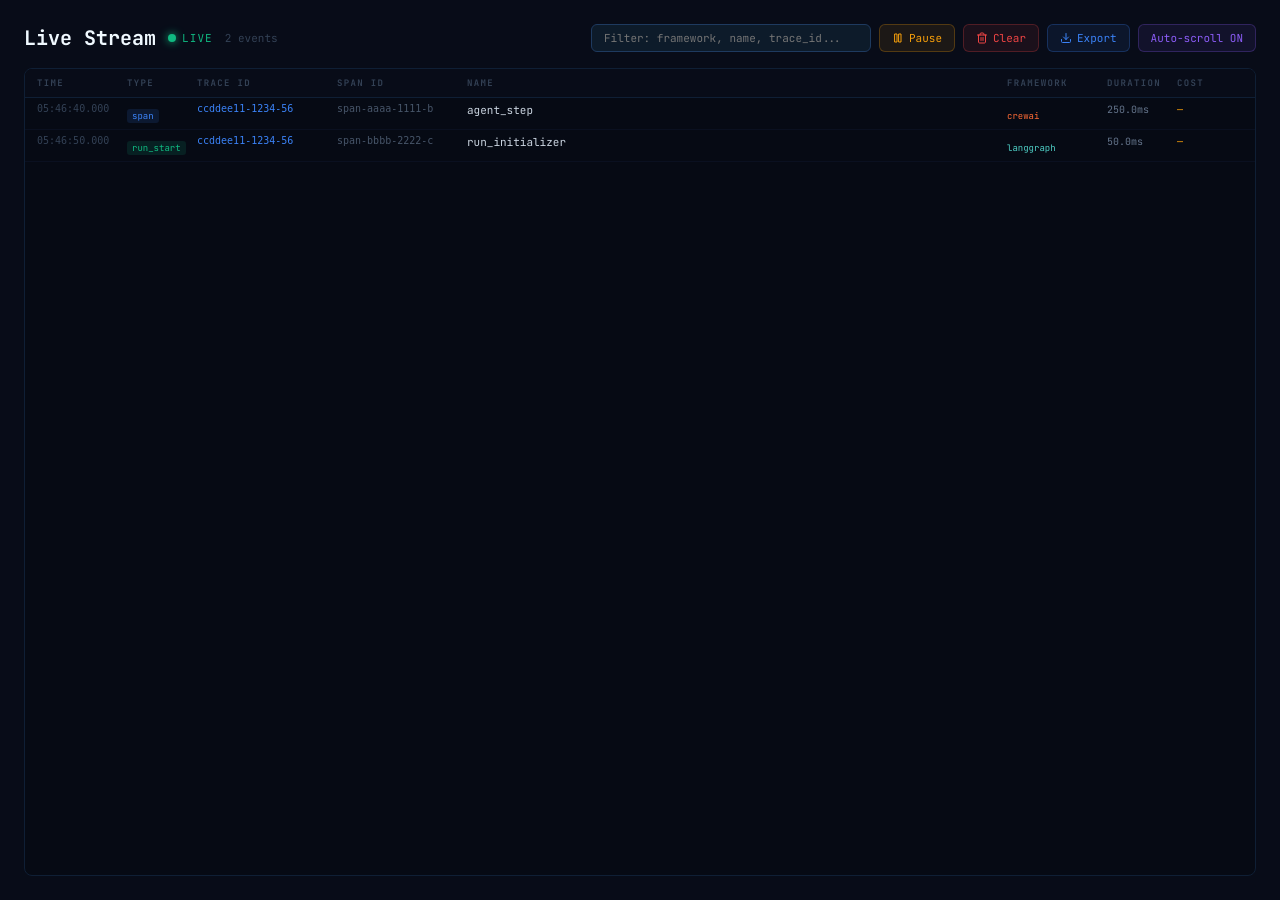
Scenario: LiveStream › pause button changes status to PAUSED
Click the button "Pause": (917, 38) [879, 24, 955, 52]
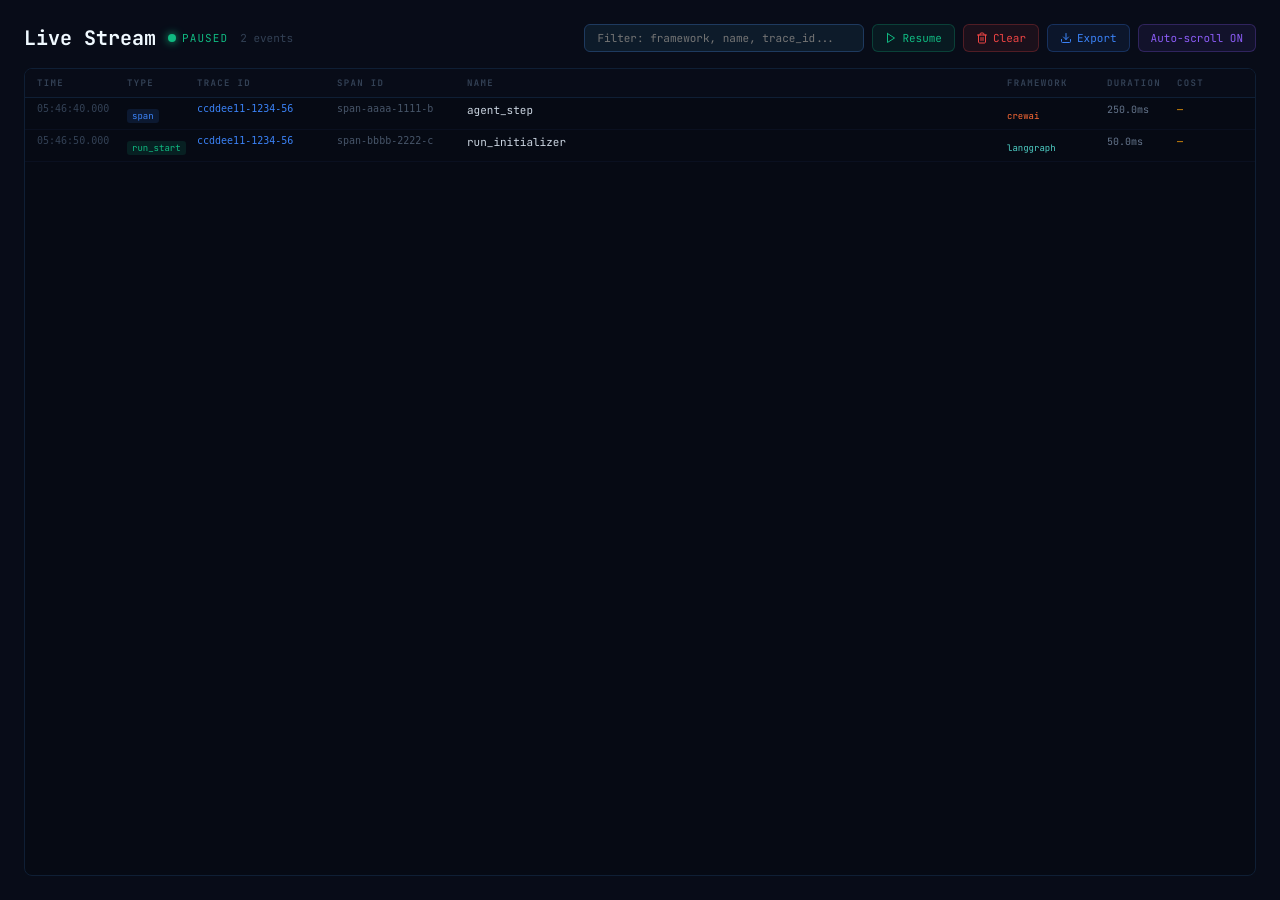
Expected: the text "PAUSED" is shown, [182, 31, 228, 45]
